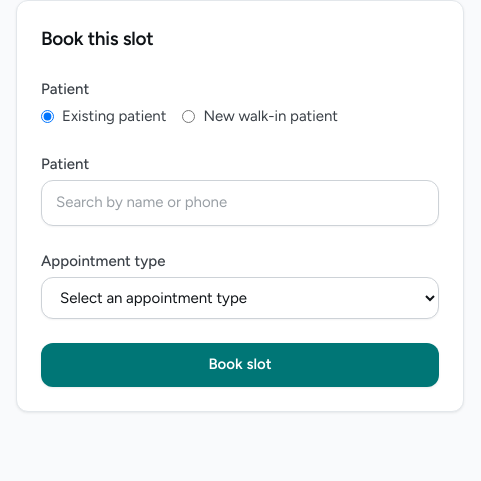
it: BookSlotForm › blocks submission and shows an inline error when no appointment type is selected
Step 1. Type "Asha" into the dropdown labelled "Patient" → (240, 203), box [41,180,439,226]
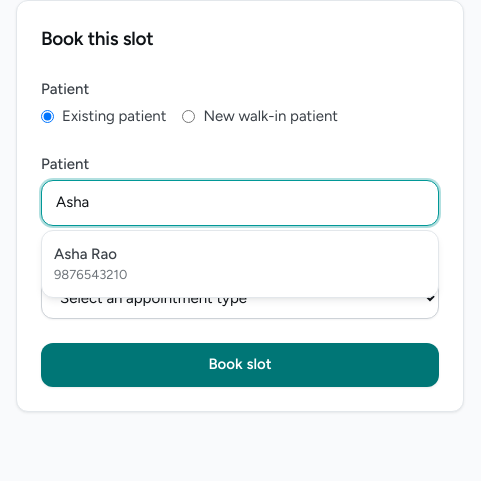
Check: the option "Asha Rao 9876543210" is shown
Step 2. Click the option "Asha Rao 9876543210" → (91, 264), box [54,245,127,282]
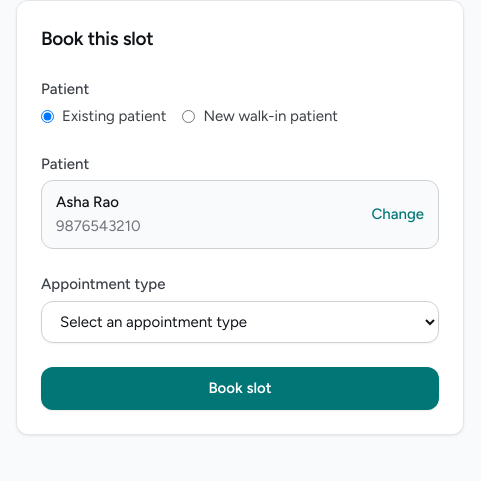
Step 3. Click the button "Book slot" → (240, 389), box [41,367,439,410]
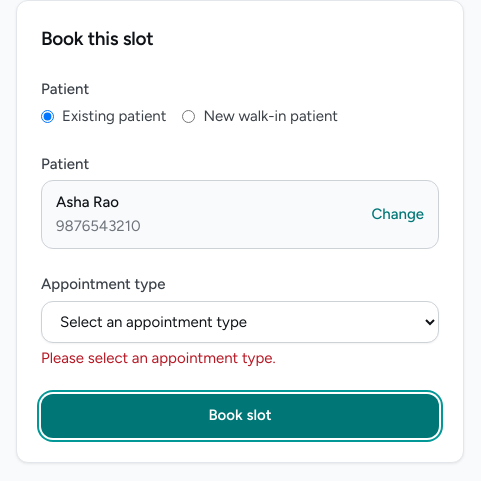
Check: the text "Asha Rao" is shown, box [56,193,119,211]
Check: the message shows "Please select an appointment type", box [41,349,276,367]
